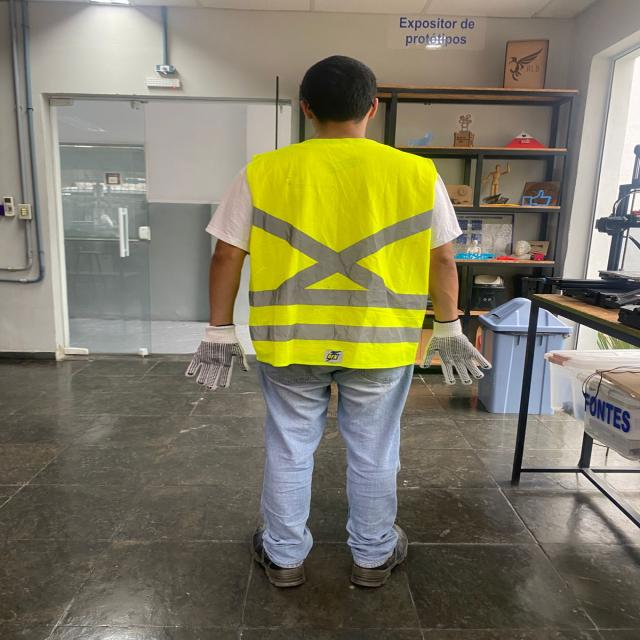BOTA: (344, 519, 421, 587), (249, 513, 313, 590)
COLETE: (244, 137, 437, 369)
LUVA: (174, 319, 254, 392), (423, 316, 503, 388)
